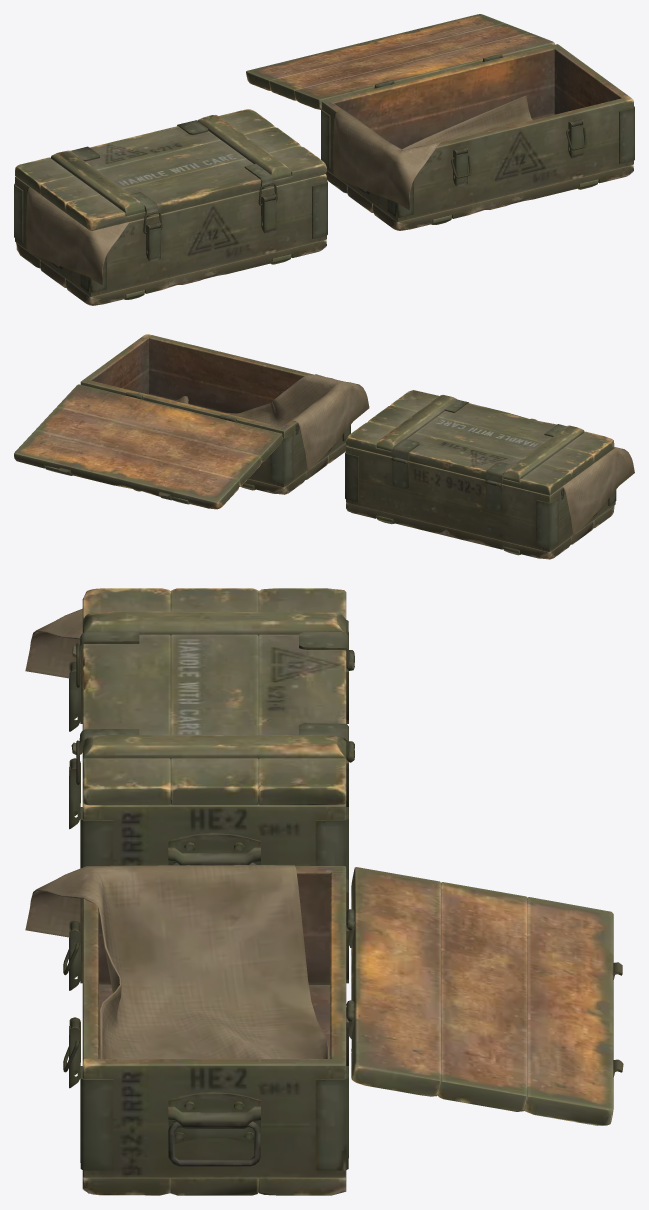
The model's file is prop-milcrate.glb.
3 renders of one model, top to bottom at view 1: azimuth 30°, elevation 25°; view 2: azimuth 150°, elevation 25°; view 3: azimuth 270°, elevation 25°, orthographic. The views are drawn at different scales.
Parts seen in each view (by area): view 1: prop-milcrate (×8); view 2: prop-milcrate (×6); view 3: prop-milcrate (×8).
Boxes of the visible parts, x1,y1,x2,y2 form: prop-milcrate (×8): (14, 14, 634, 305); prop-milcrate (×6): (14, 334, 634, 559); prop-milcrate (×8): (25, 588, 623, 1195).
Bounding box in the file's own units: 1.82 × 0.3009 × 0.9757.
Materials: 1 (1 with a texture image).
